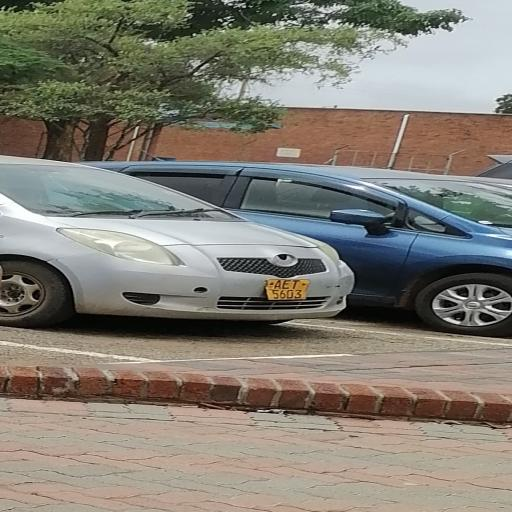number-plates: (260, 276, 311, 300)
